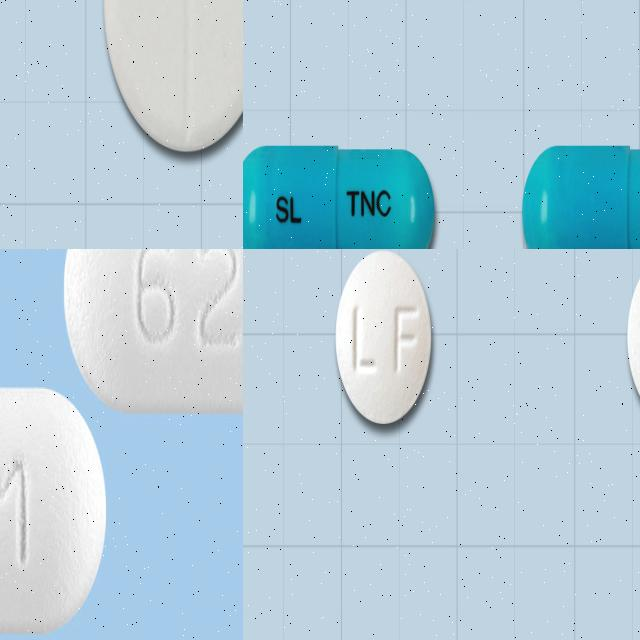Levofloxacin Tab- Withus: (335, 250, 432, 426)
Myungmoon Amoclan Tab: (65, 249, 243, 408), (0, 385, 107, 633)
Prinosine500mg: (104, 0, 243, 154)
Triumeq Tab: (243, 142, 435, 249), (522, 142, 640, 249)
